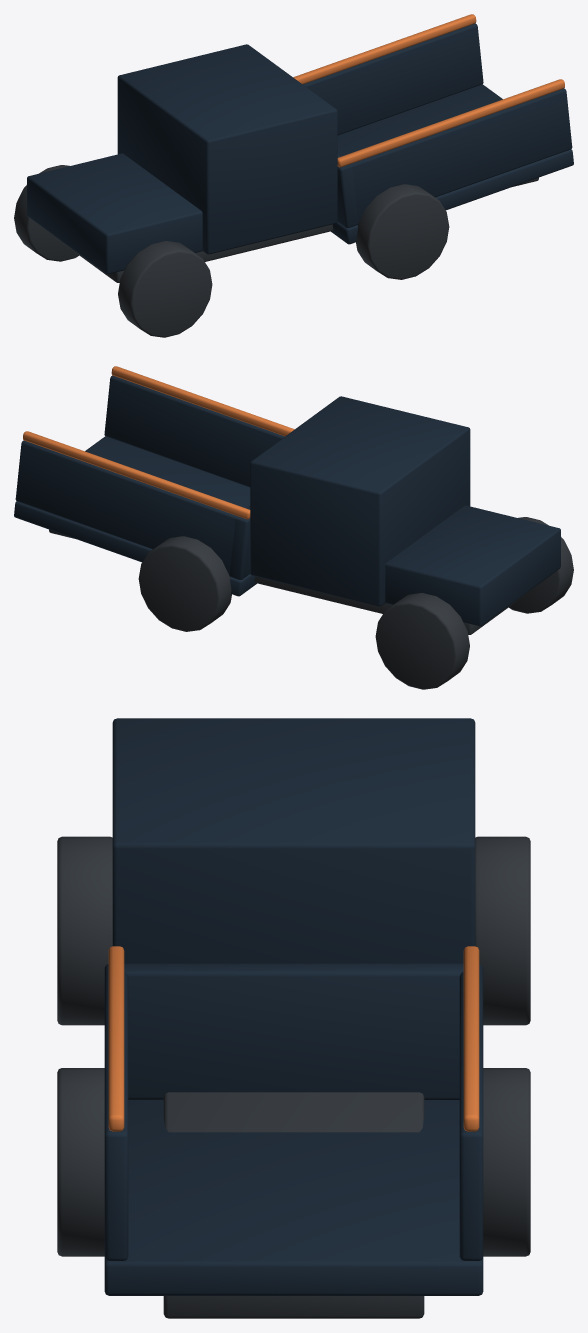
3 renders of one model, top to bottom at view 1: azimuth 30°, elevation 25°; view 2: azimuth 150°, elevation 25°; view 3: azimuth 270°, elevation 25°, orthographic. The views are drawn at different scales.
Parts seen in each view (by area): view 1: HerosTruckMark; view 2: HerosTruckMark; view 3: HerosTruckMark.
Boxes of the visible parts, <box> form: HerosTruckMark: <box>14,14,573,337</box>; HerosTruckMark: <box>14,366,573,689</box>; HerosTruckMark: <box>57,718,530,1318</box>.
Bounding box in the file's own units: 2.78 × 1 × 1.24.
